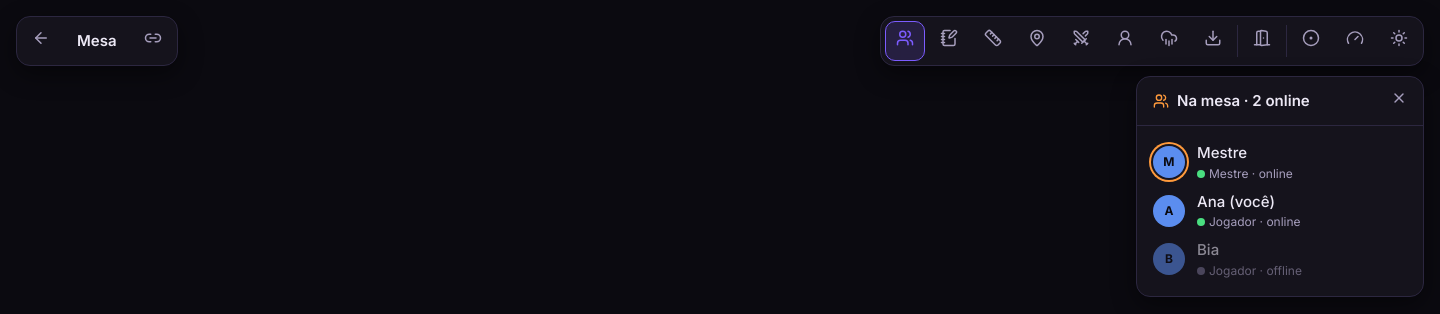
Test case: anotações na barra da sala › shouldCloseThePanelWhenItsButtonIsClickedAgainOrItsCloseButtonIsUsed
Click the button named "Anotações" at (949, 41), box 929,21 -> 969,61
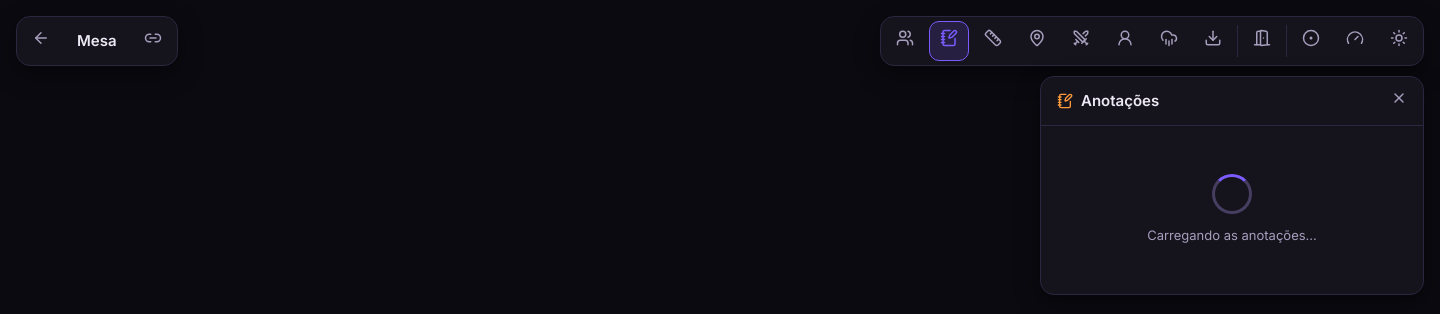
Click the button named "Anotações" at (949, 41), box 929,21 -> 969,61
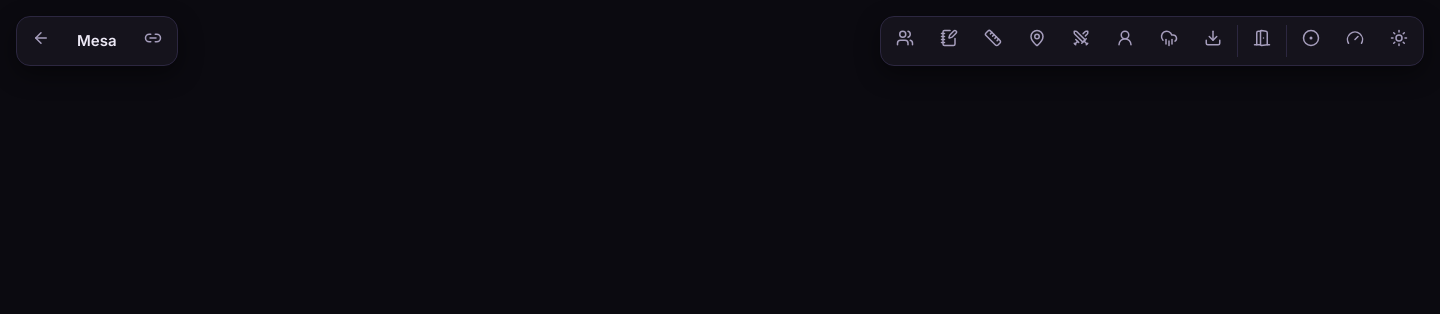
Expected: the heading "Na mesa" is not shown
Result: the heading "Anotações" is gone
Click the button named "Anotações" at (949, 41), box 929,21 -> 969,61
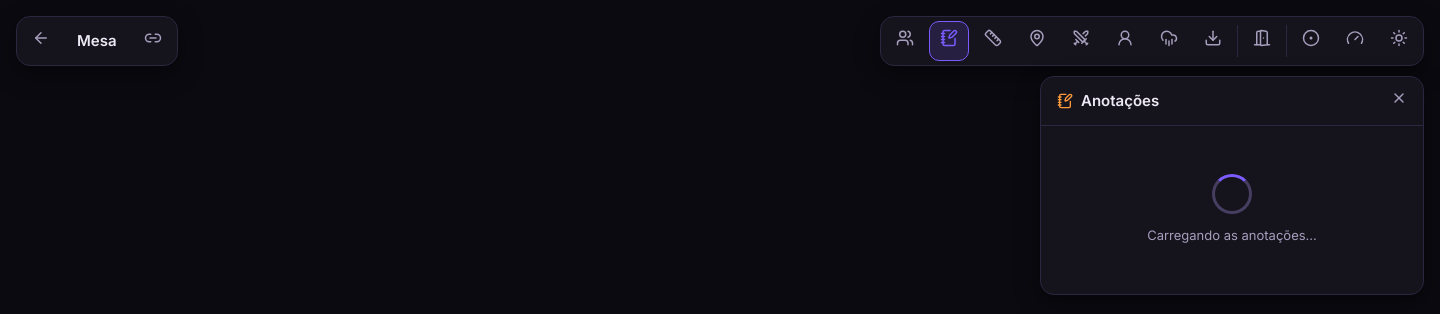
Click the button named "Fechar Anotações" at (1399, 101), box 1383,85 -> 1415,117
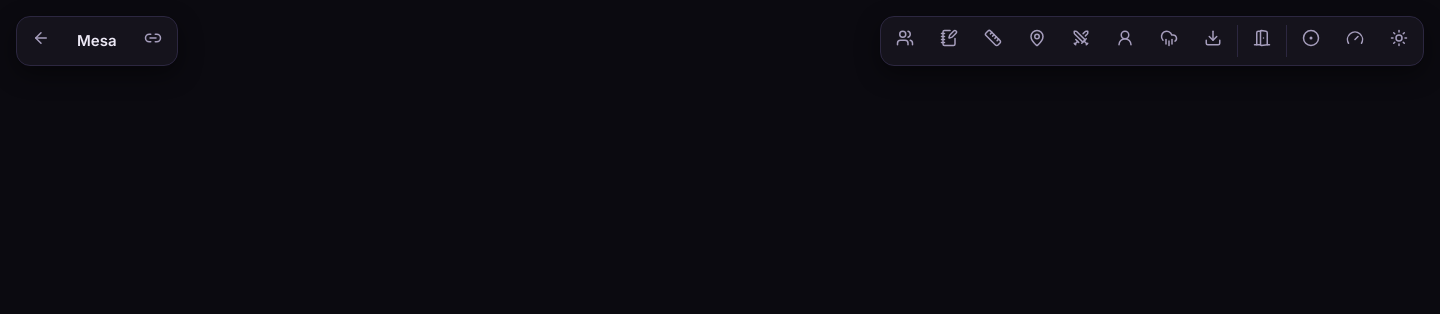
Result: the heading "Anotações" is gone
